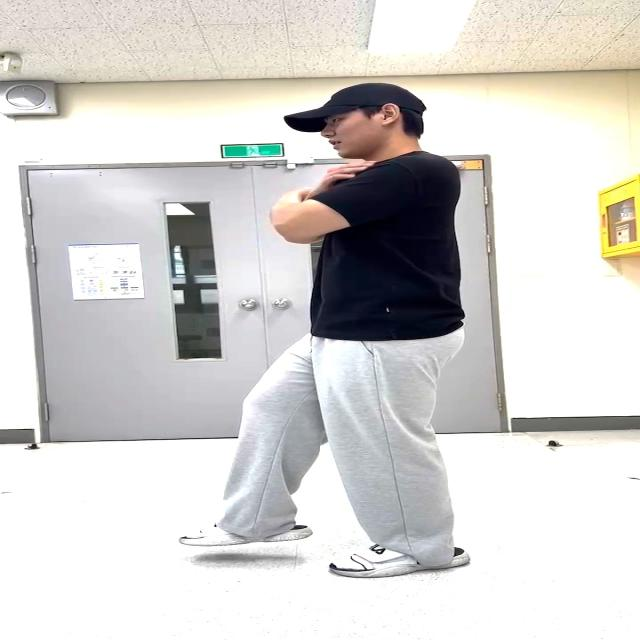leg: (197, 350, 300, 542)
